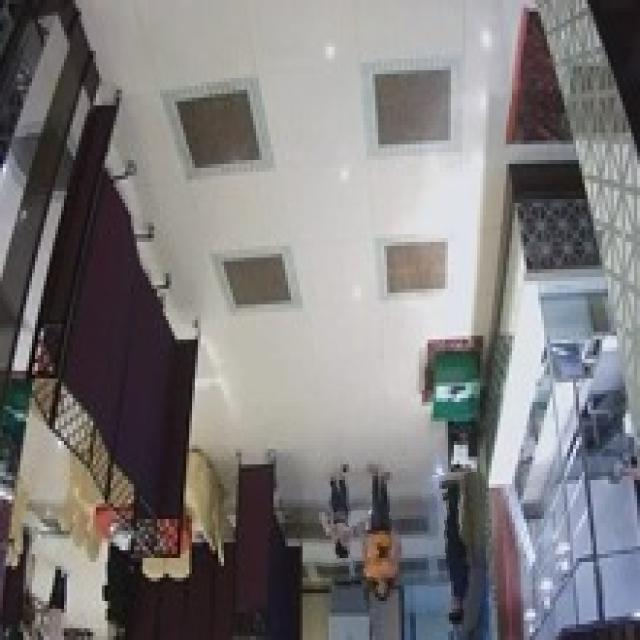Normal: (423, 473, 486, 632), (351, 475, 399, 606), (318, 473, 358, 577)
